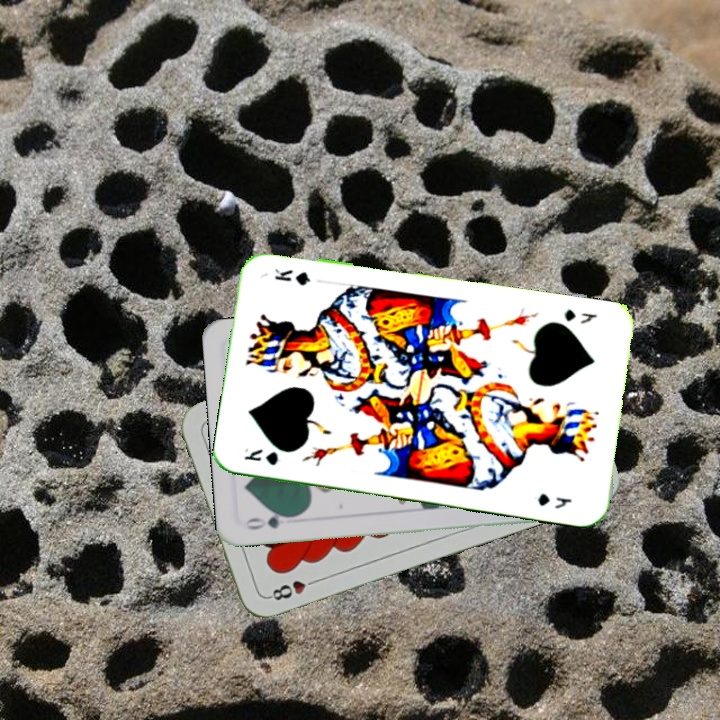GK: (240, 444, 281, 468), (560, 305, 600, 326)
GO: (240, 508, 299, 532)
H8: (264, 574, 321, 603)
